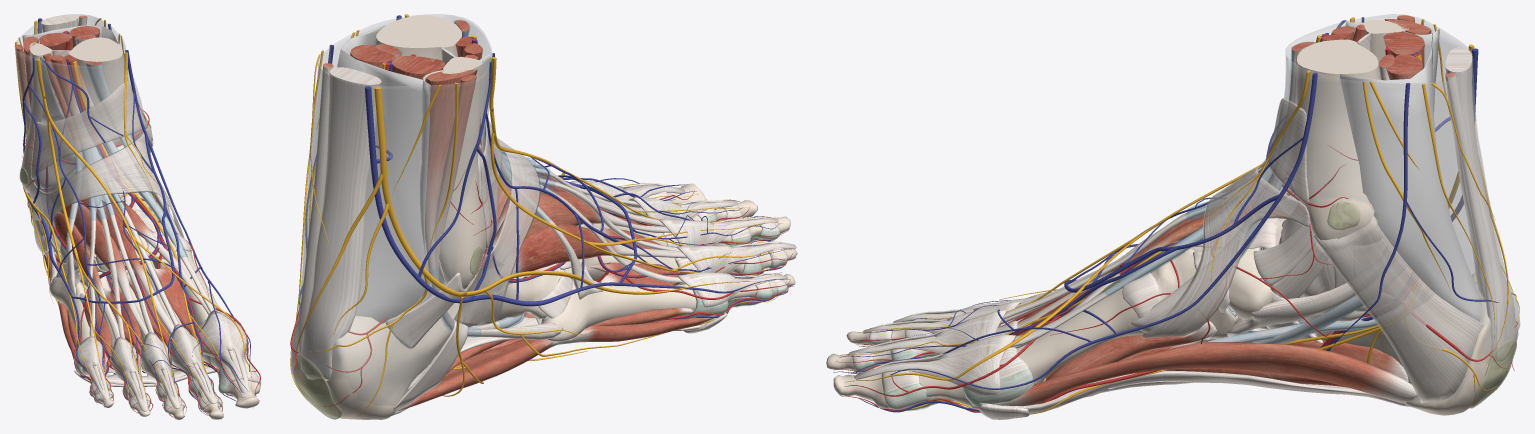
The model's file is zone-ankle.glb.
3 views of the same model, side by side, from view 1: azimuth 30°, elevation 25°; view 2: azimuth 150°, elevation 25°; view 3: azimuth 270°, elevation 25° (orthographic). The views are drawn at different scales.
Parts seen in each view (by area): view 1: Crural fascia.r, Inferior extensor retinaculum.r, Extensor digitorum brevis.r, Superior extensor retinaculum of ankle.r, Extensor digitorum longus tendons.r, Tibia.r, Extensor apparatus of 1st toe.r, Fibula.r, Extensor apparatus of 2nd toe.r, Dorsal metatarsal arteries.r, Extensor apparatus of 3rd toe.r, Dorsal venous network of foot.r (+58 smaller); view 2: Crural fascia.r, Calcaneal tendon.r, Transverse intermuscular septum of leg.r, Calcaneus.r, Extensor digitorum brevis.r, Fibula.r, Inferior extensor retinaculum.r, Abductor digiti minimi of foot.r, Fibularis brevis muscle.r, Fifth metatarsal bone.r, Extensor digitorum longus tendons.r, Plantaris muscle.r (+44 smaller); view 3: Crural fascia.r, Transverse intermuscular septum of leg.r, Flexor retinaculum of ankle.r, Tibia.r, Abductor hallucis.r, Inferior extensor retinaculum.r, Calcaneus.r, Calcaneal tendon.r, First metatarsal bone.r, Extensor apparatus of 1st toe.r, Plantar aponeurosis.r, Tibialis anterior muscle.r (+43 smaller).
Part boxes in pixels (left/top/right/bottom): Crural fascia.r: left=14, top=14, right=145, bottom=228; Inferior extensor retinaculum.r: left=29, top=129, right=184, bottom=252; Extensor digitorum brevis.r: left=53, top=198, right=200, bottom=388; Superior extensor retinaculum of ankle.r: left=31, top=80, right=147, bottom=179; Extensor digitorum longus tendons.r: left=88, top=194, right=209, bottom=399; Tibia.r: left=68, top=37, right=152, bottom=154; Extensor apparatus of 1st toe.r: left=196, top=310, right=250, bottom=393; Fibula.r: left=21, top=42, right=56, bottom=195; Extensor apparatus of 2nd toe.r: left=169, top=324, right=216, bottom=404; Dorsal metatarsal arteries.r: left=73, top=246, right=260, bottom=416; Extensor apparatus of 3rd toe.r: left=140, top=332, right=180, bottom=408; Dorsal venous network of foot.r: left=48, top=86, right=172, bottom=301; Crural fascia.r: left=296, top=14, right=511, bottom=412; Calcaneal tendon.r: left=301, top=67, right=381, bottom=380; Transverse intermuscular septum of leg.r: left=315, top=25, right=430, bottom=323; Calcaneus.r: left=291, top=279, right=495, bottom=419; Extensor digitorum brevis.r: left=482, top=173, right=760, bottom=294; Fibula.r: left=439, top=56, right=485, bottom=289; Inferior extensor retinaculum.r: left=454, top=138, right=540, bottom=326; Abductor digiti minimi of foot.r: left=397, top=315, right=718, bottom=410; Fibularis brevis muscle.r: left=425, top=69, right=563, bottom=340; Fifth metatarsal bone.r: left=541, top=279, right=696, bottom=341; Extensor digitorum longus tendons.r: left=502, top=154, right=778, bottom=282; Plantaris muscle.r: left=298, top=63, right=333, bottom=359; Crural fascia.r: left=1257, top=14, right=1520, bottom=363; Transverse intermuscular septum of leg.r: left=1339, top=33, right=1481, bottom=321; Flexor retinaculum of ankle.r: left=1314, top=216, right=1483, bottom=403; Tibia.r: left=1297, top=39, right=1380, bottom=251; Abductor hallucis.r: left=970, top=342, right=1417, bottom=409; Inferior extensor retinaculum.r: left=1142, top=167, right=1310, bottom=338; Calcaneus.r: left=1303, top=294, right=1518, bottom=415; Calcaneal tendon.r: left=1445, top=47, right=1516, bottom=362; First metatarsal bone.r: left=1016, top=288, right=1147, bottom=384; Extensor apparatus of 1st toe.r: left=854, top=334, right=1015, bottom=395; Plantar aponeurosis.r: left=979, top=370, right=1408, bottom=413; Tibialis anterior muscle.r: left=1130, top=42, right=1314, bottom=335.
Bounding box in the file's own units: 0.1016 × 0.1336 × 0.2313.
47 materials, 9 textured.
